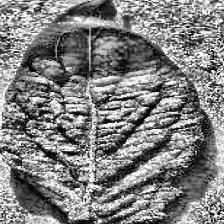spider mites: (0, 0, 200, 224)
